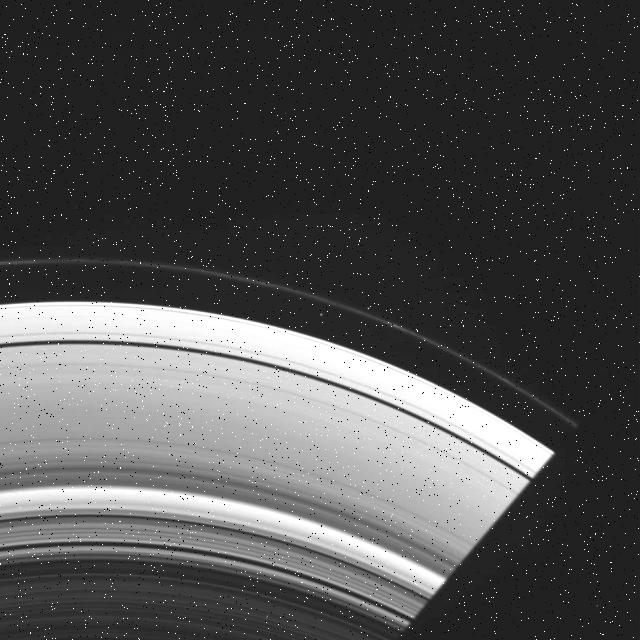Saturn: (1, 253, 580, 640)
